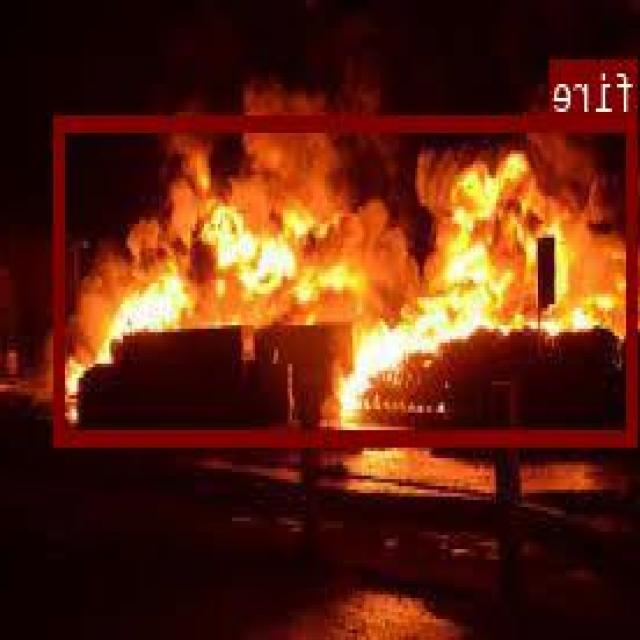fire: (56, 113, 640, 442)
